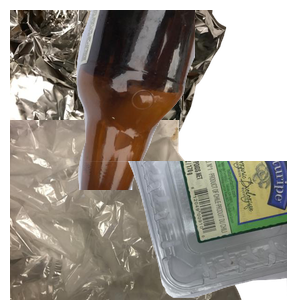glass: (60, 10, 300, 190)
metal: (10, 10, 229, 190)
plastic: (60, 161, 300, 300)
trash: (10, 120, 244, 300)
